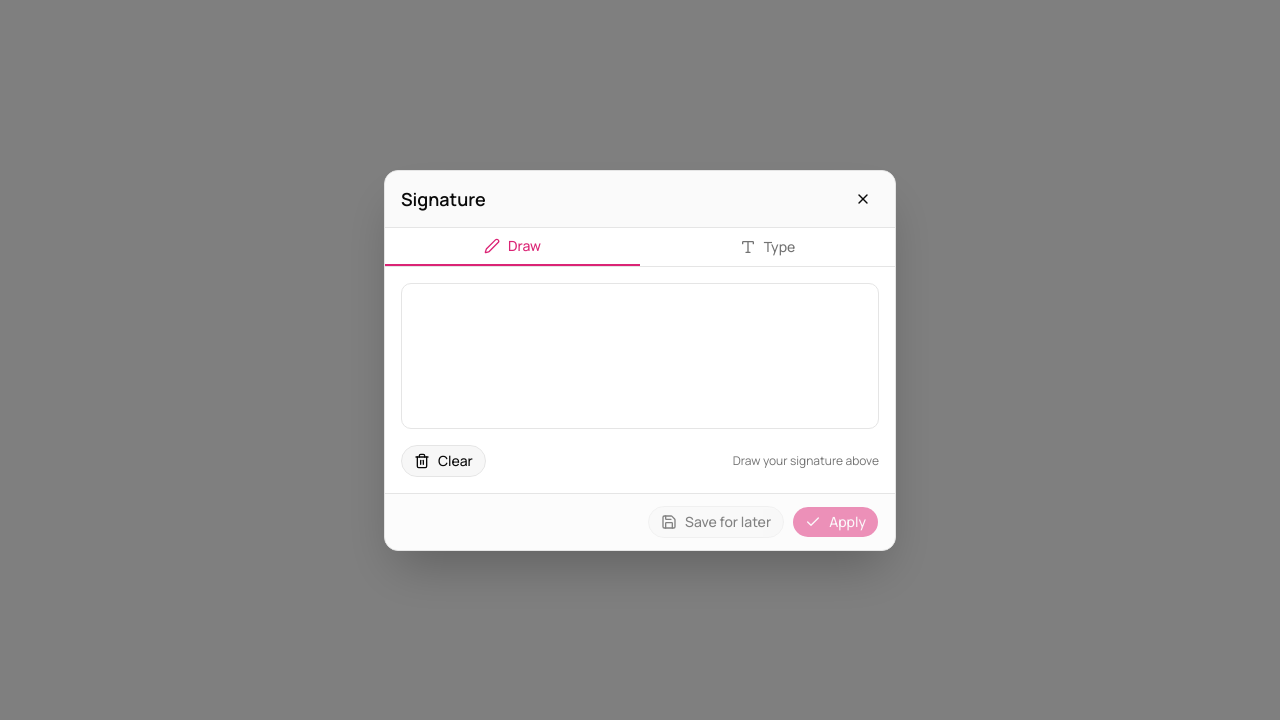
it: SignaturePad › should disable Apply after clearing the canvas
Press the mouse on the drawing at (640,356), box [402,284,878,428]
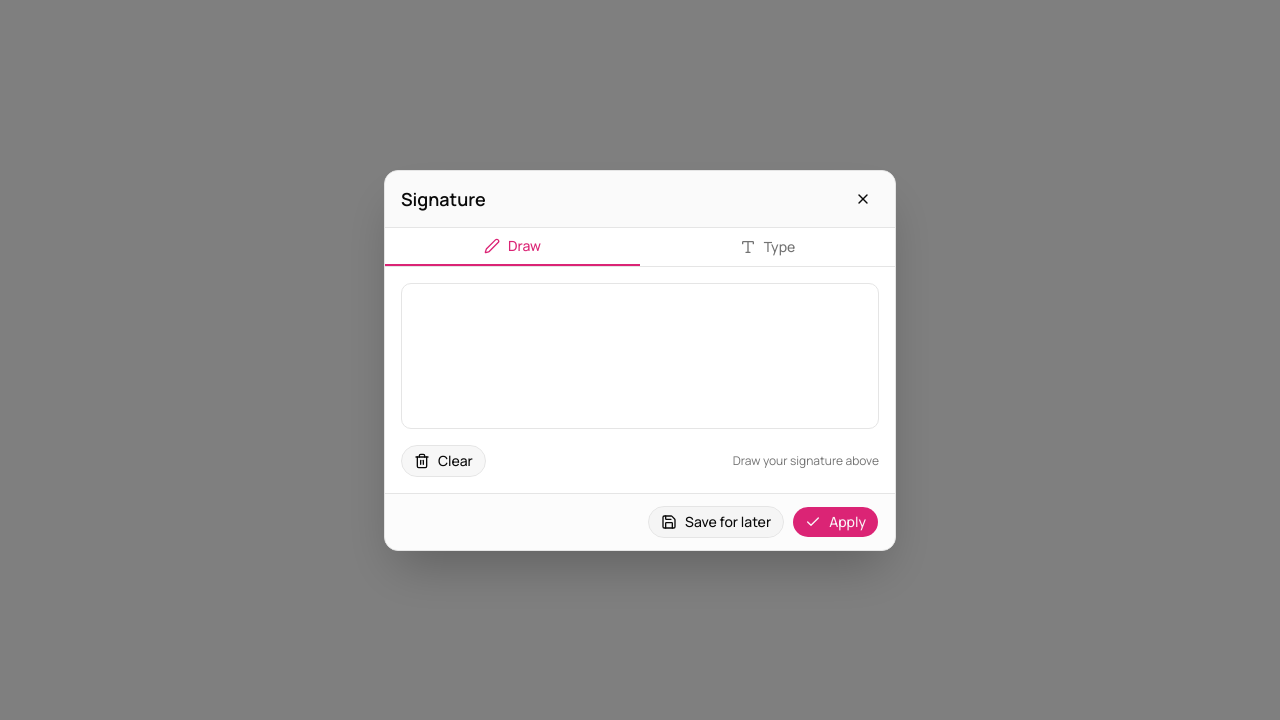
Click the button "Clear" at (443,460), box [401,444,486,476]
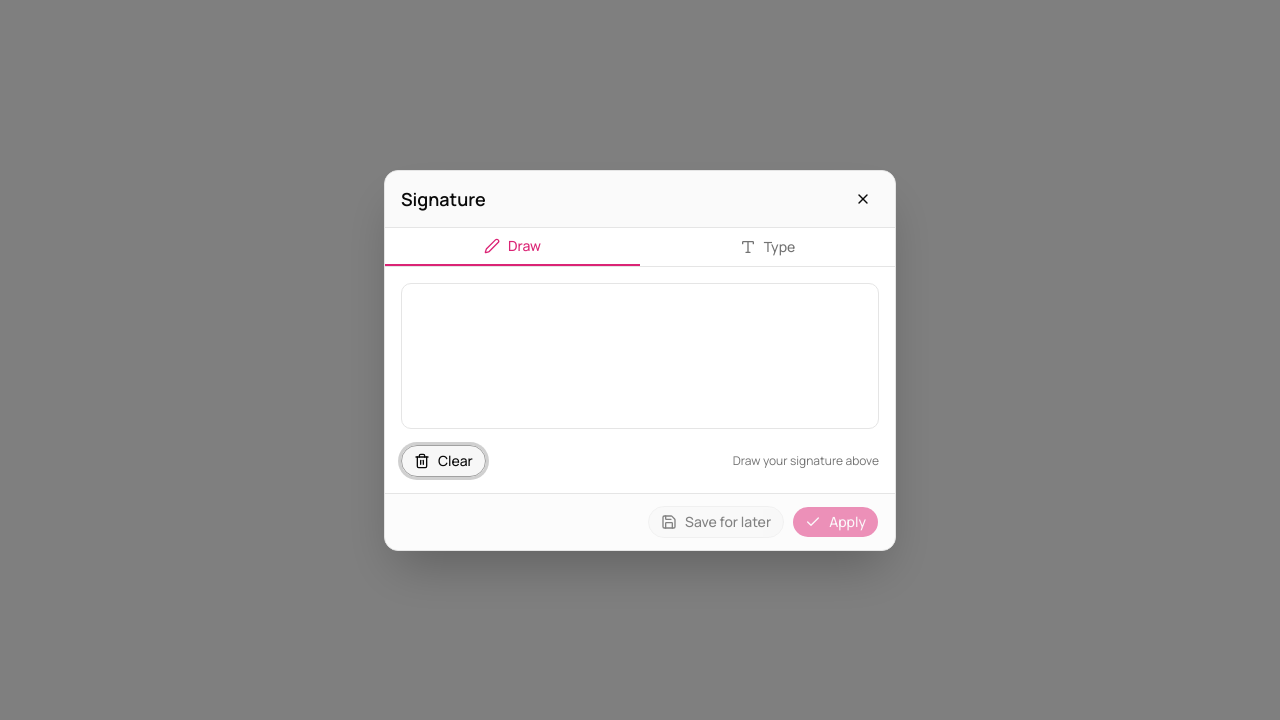
Result: the button "Apply" is disabled at [792,506,879,538]
